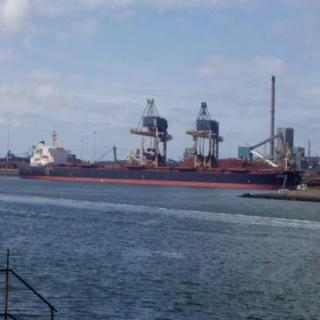Bulk Carrier: (9, 86, 312, 197)
